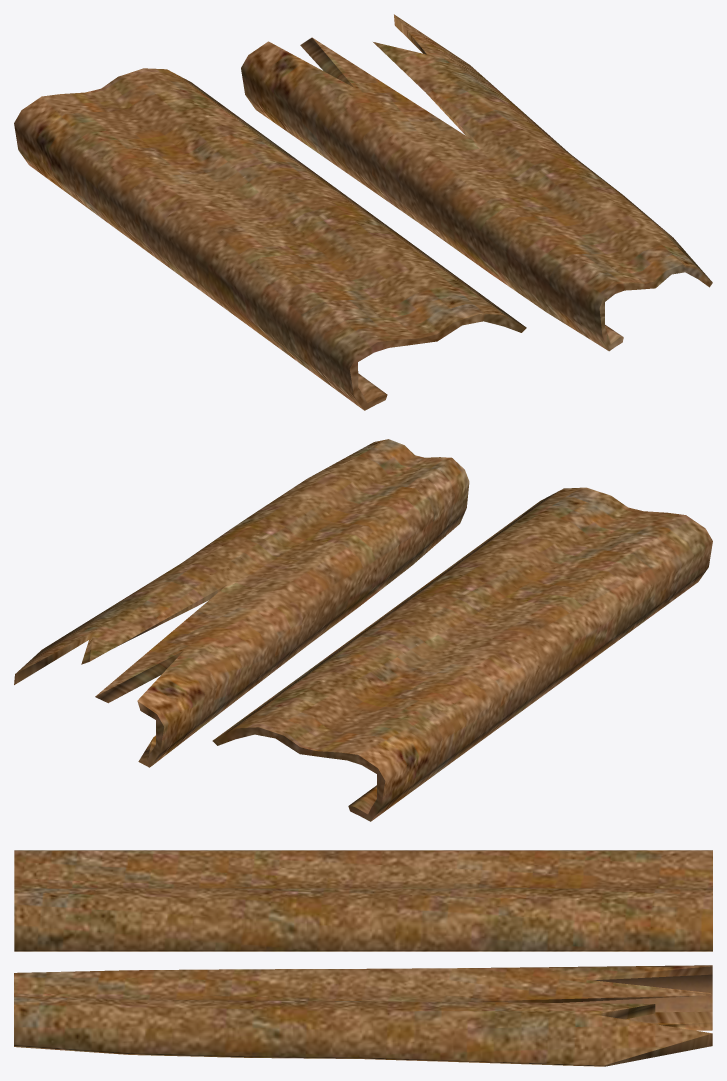
The model's file is rougui.FBX.
The picture shows the model from 3 angles, top to bottom: view 1: azimuth 30°, elevation 25°; view 2: azimuth 150°, elevation 25°; view 3: azimuth 270°, elevation 25°; orthographic projection. The views are drawn at different scales.
Visible parts, largest first — view 1: Line001, Line002; view 2: Line001, Line002; view 3: Line001, Line002.
Part boxes in pixels (x1,y1,x2,y2): Line001: (14,68,526,410); Line002: (241,14,712,351); Line001: (212,487,712,821); Line002: (14,439,469,767); Line001: (14,850,712,951); Line002: (14,965,712,1066).
Bounding box in the file's own units: 30.64 × 4.99 × 44.12.
